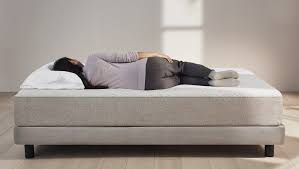bed-matress: (12, 63, 283, 127)
